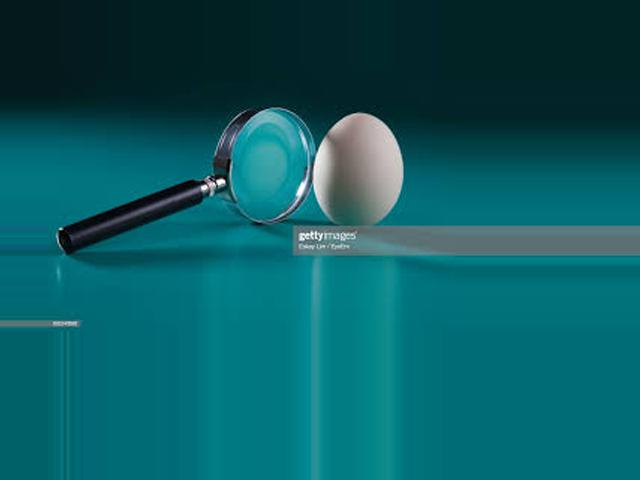egg: (312, 112, 404, 227)
